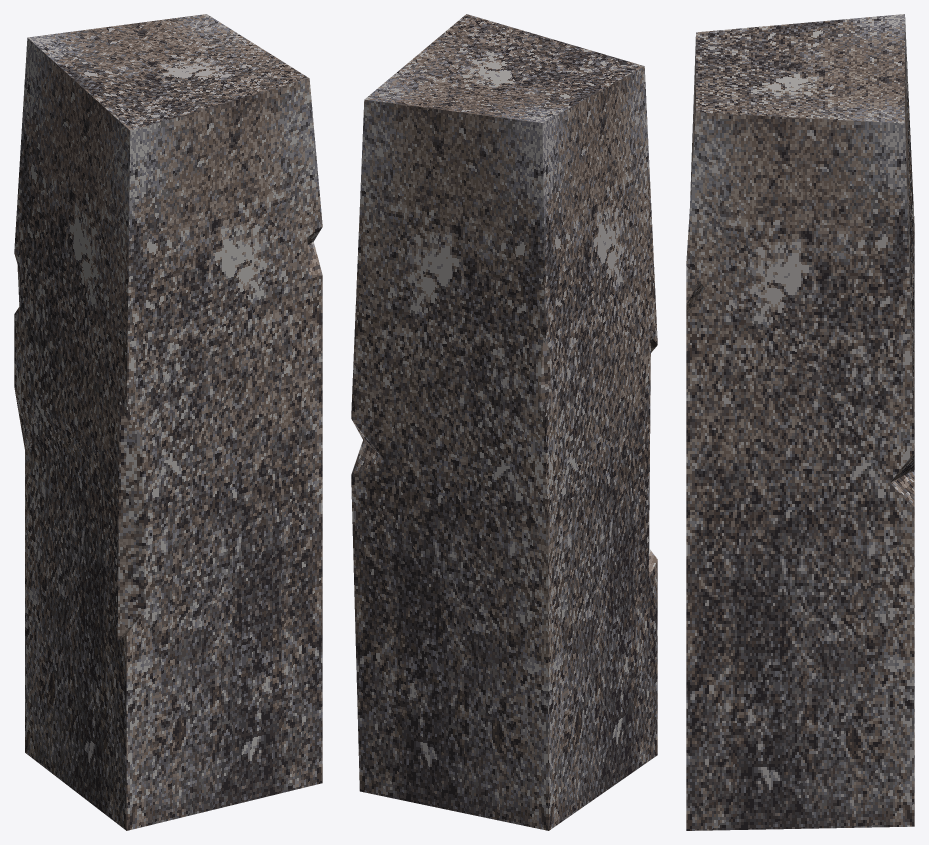
Rendered from retro_concrete_pillar.glb.
3 views of the same model, side by side, from view 1: azimuth 30°, elevation 25°; view 2: azimuth 150°, elevation 25°; view 3: azimuth 270°, elevation 25° (orthographic). The views are drawn at different scales.
Visible parts, largest first — view 1: Cube; view 2: Cube; view 3: Cube.
Part boxes in pixels (x1,y1,x2,y2): Cube: (14, 14, 322, 830); Cube: (351, 14, 657, 830); Cube: (686, 14, 914, 830).
Size of the model in its own units: 0.8637 by 3 by 0.8582.
1 material, 1 textured.
